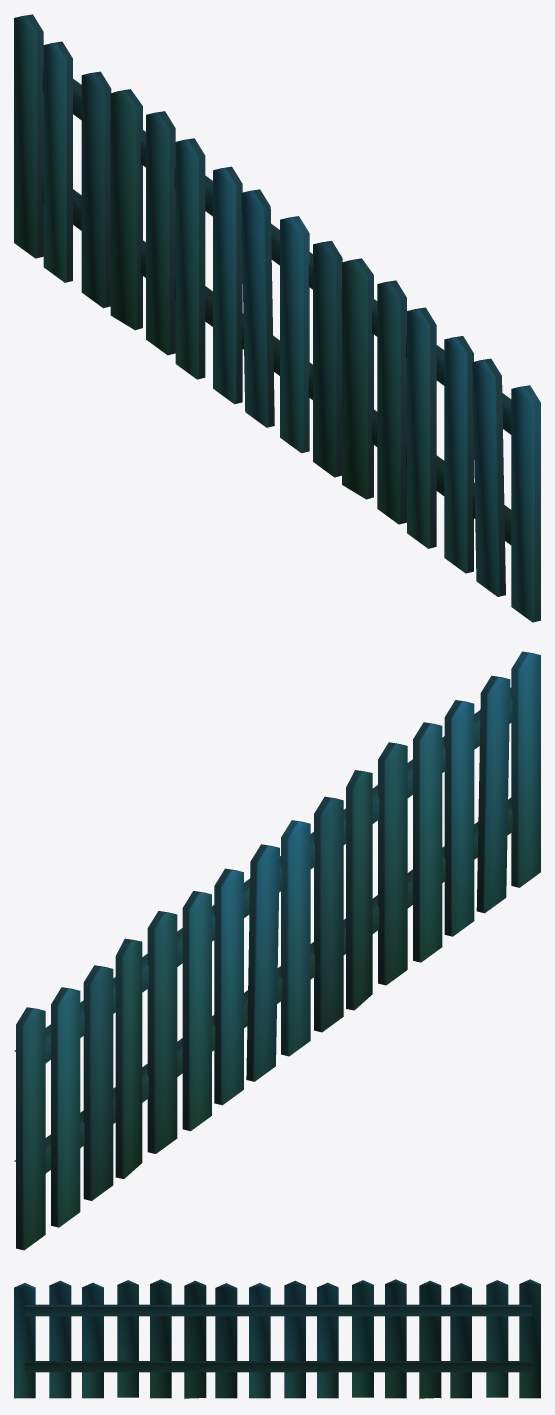
File: WoodFence01Night.fbx
3 renders of one model, top to bottom at view 1: azimuth 30°, elevation 25°; view 2: azimuth 150°, elevation 25°; view 3: azimuth 270°, elevation 25°, orthographic. The views are drawn at different scales.
Parts seen in each view (by area): view 1: WoodFence01Night; view 2: WoodFence01Night; view 3: WoodFence01Night.
Part boxes in pixels (x1,y1,x2,y2): WoodFence01Night: [14, 14, 540, 622]; WoodFence01Night: [14, 651, 540, 1250]; WoodFence01Night: [14, 1279, 540, 1399].
Bounding box in the file's own units: 21.73 × 214 × 857.
